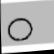no answer: (2, 15, 39, 44)
